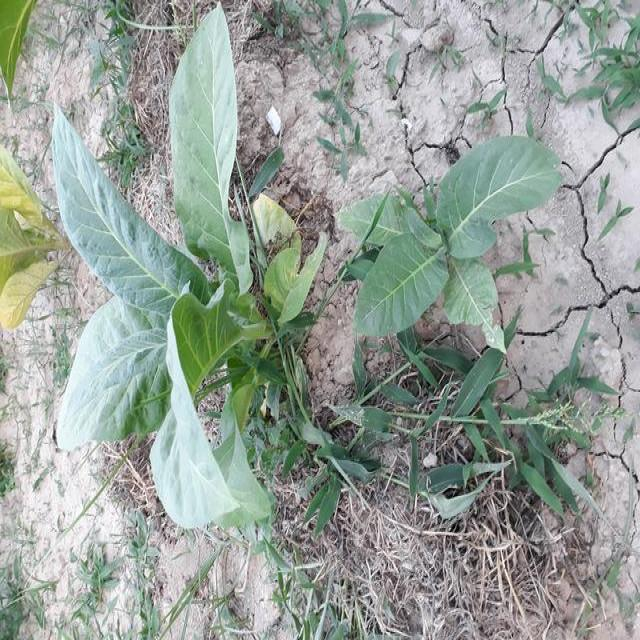crop: (26, 7, 309, 587)
